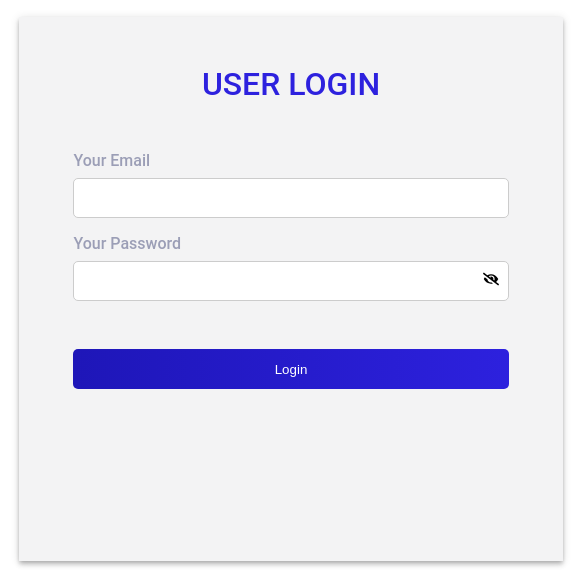
Test: Login › should show error message when email is not valid
The width and height of the screenshot is (583, 584).
Type "xxxx@xxx" into the field with test id "email-input" at [291, 198], box [73,178,509,218]
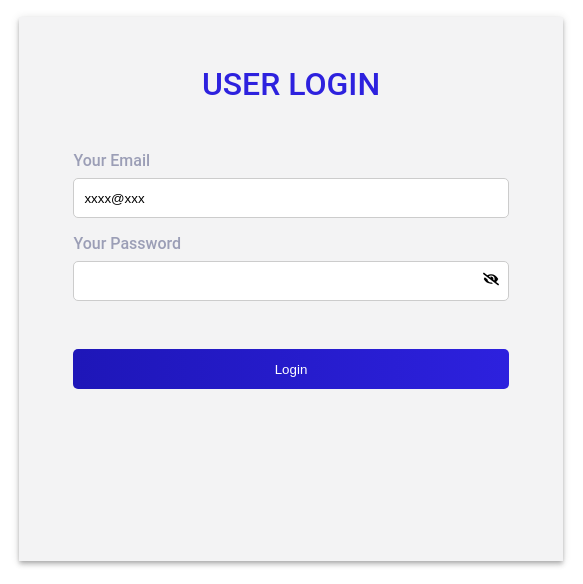
Type "password" into the password field with test id "password-input" at [291, 281], box [73,261,509,301]
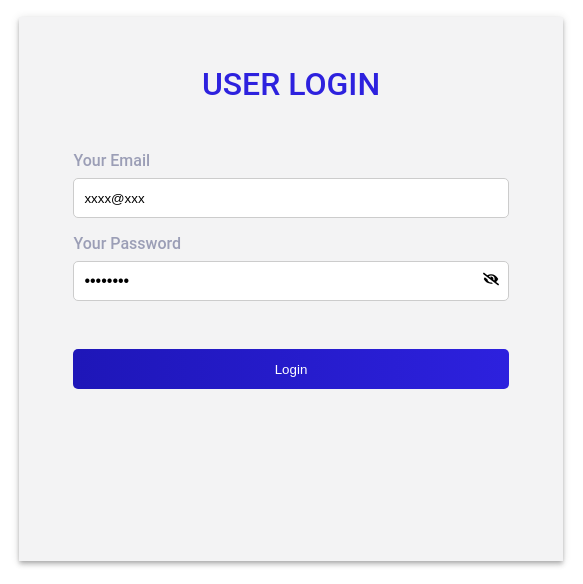
Click the button "Login" at [291, 369], box [73,349,509,389]
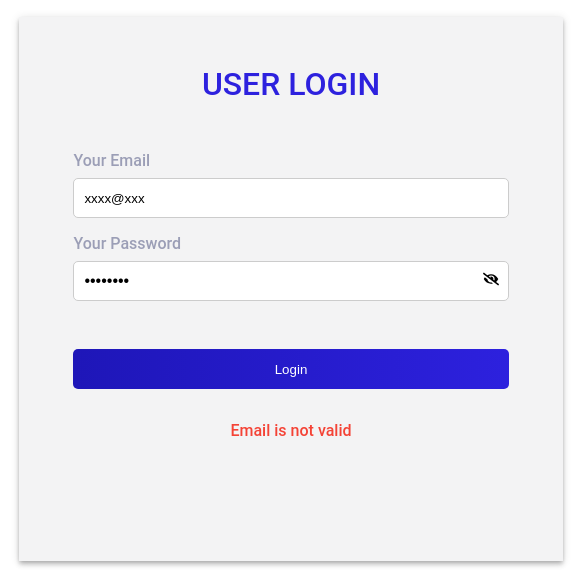
Check: the text "Email is not valid" is shown, box [230,421,352,440]
